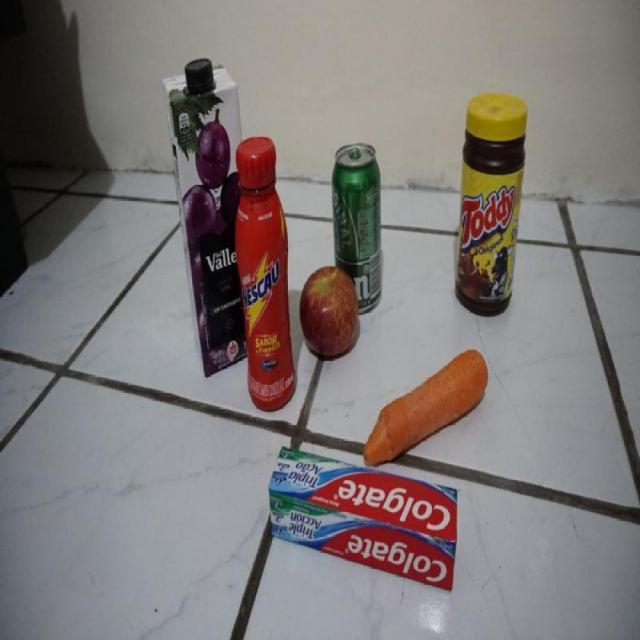Apple: (301, 263, 359, 359)
BeerCan: (332, 139, 384, 313)
Carrot: (362, 350, 488, 467)
ChocolateMilk: (233, 135, 296, 410)
ChocolatePowder: (456, 92, 528, 316)
Toothpaste: (268, 446, 461, 590)
